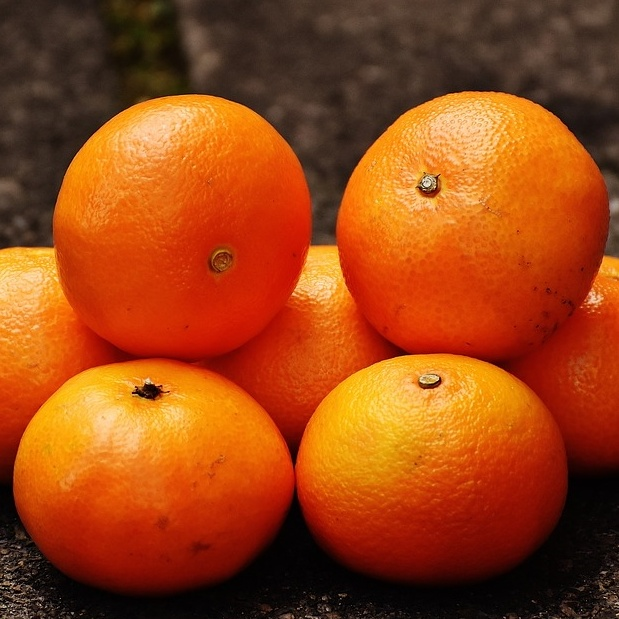mandarin: (336, 90, 612, 363), (54, 92, 316, 360), (14, 358, 296, 594), (292, 355, 571, 581), (224, 242, 393, 431), (1, 246, 122, 466), (510, 248, 619, 472)
